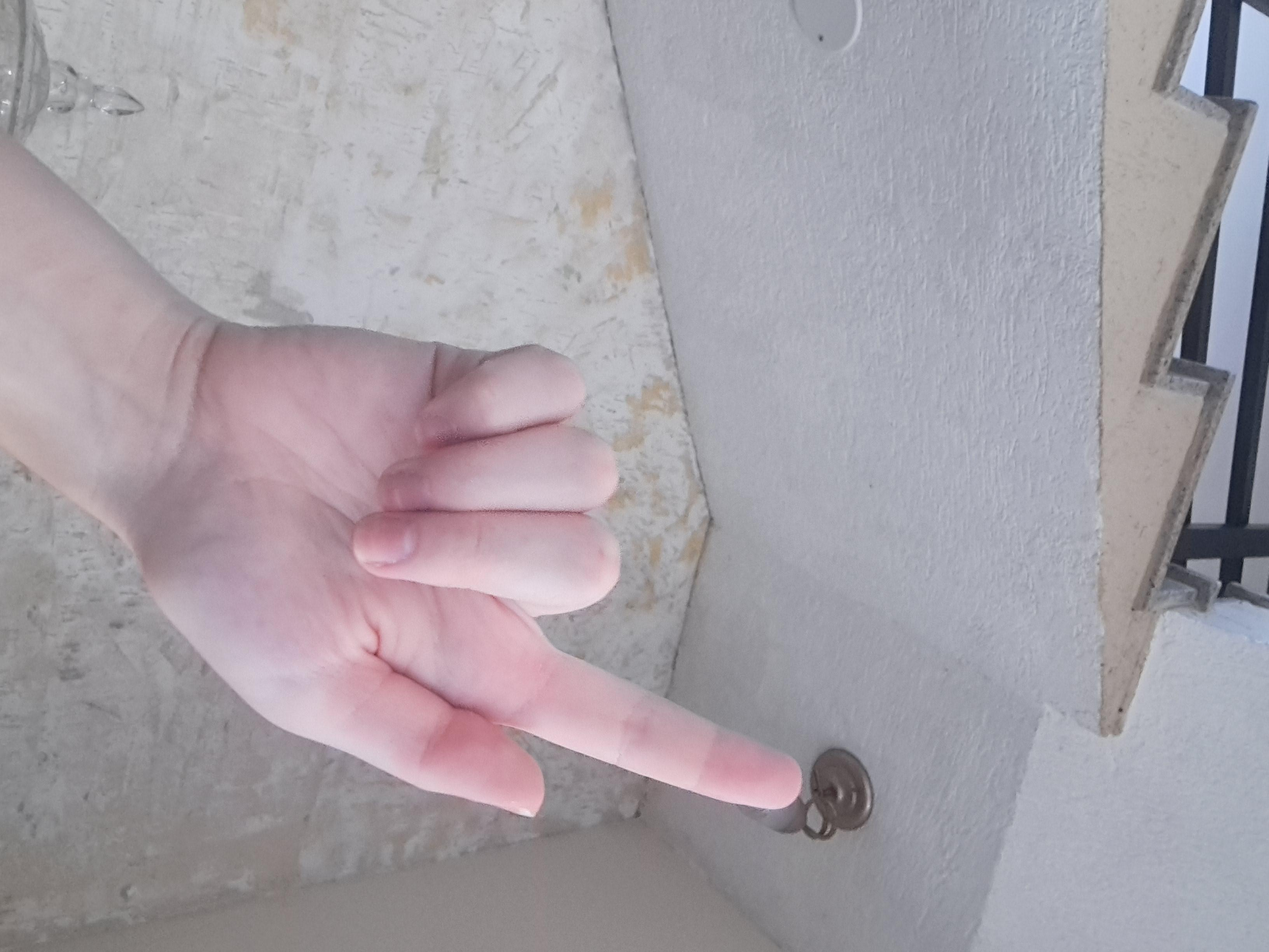G: (399, 335, 1120, 843)
